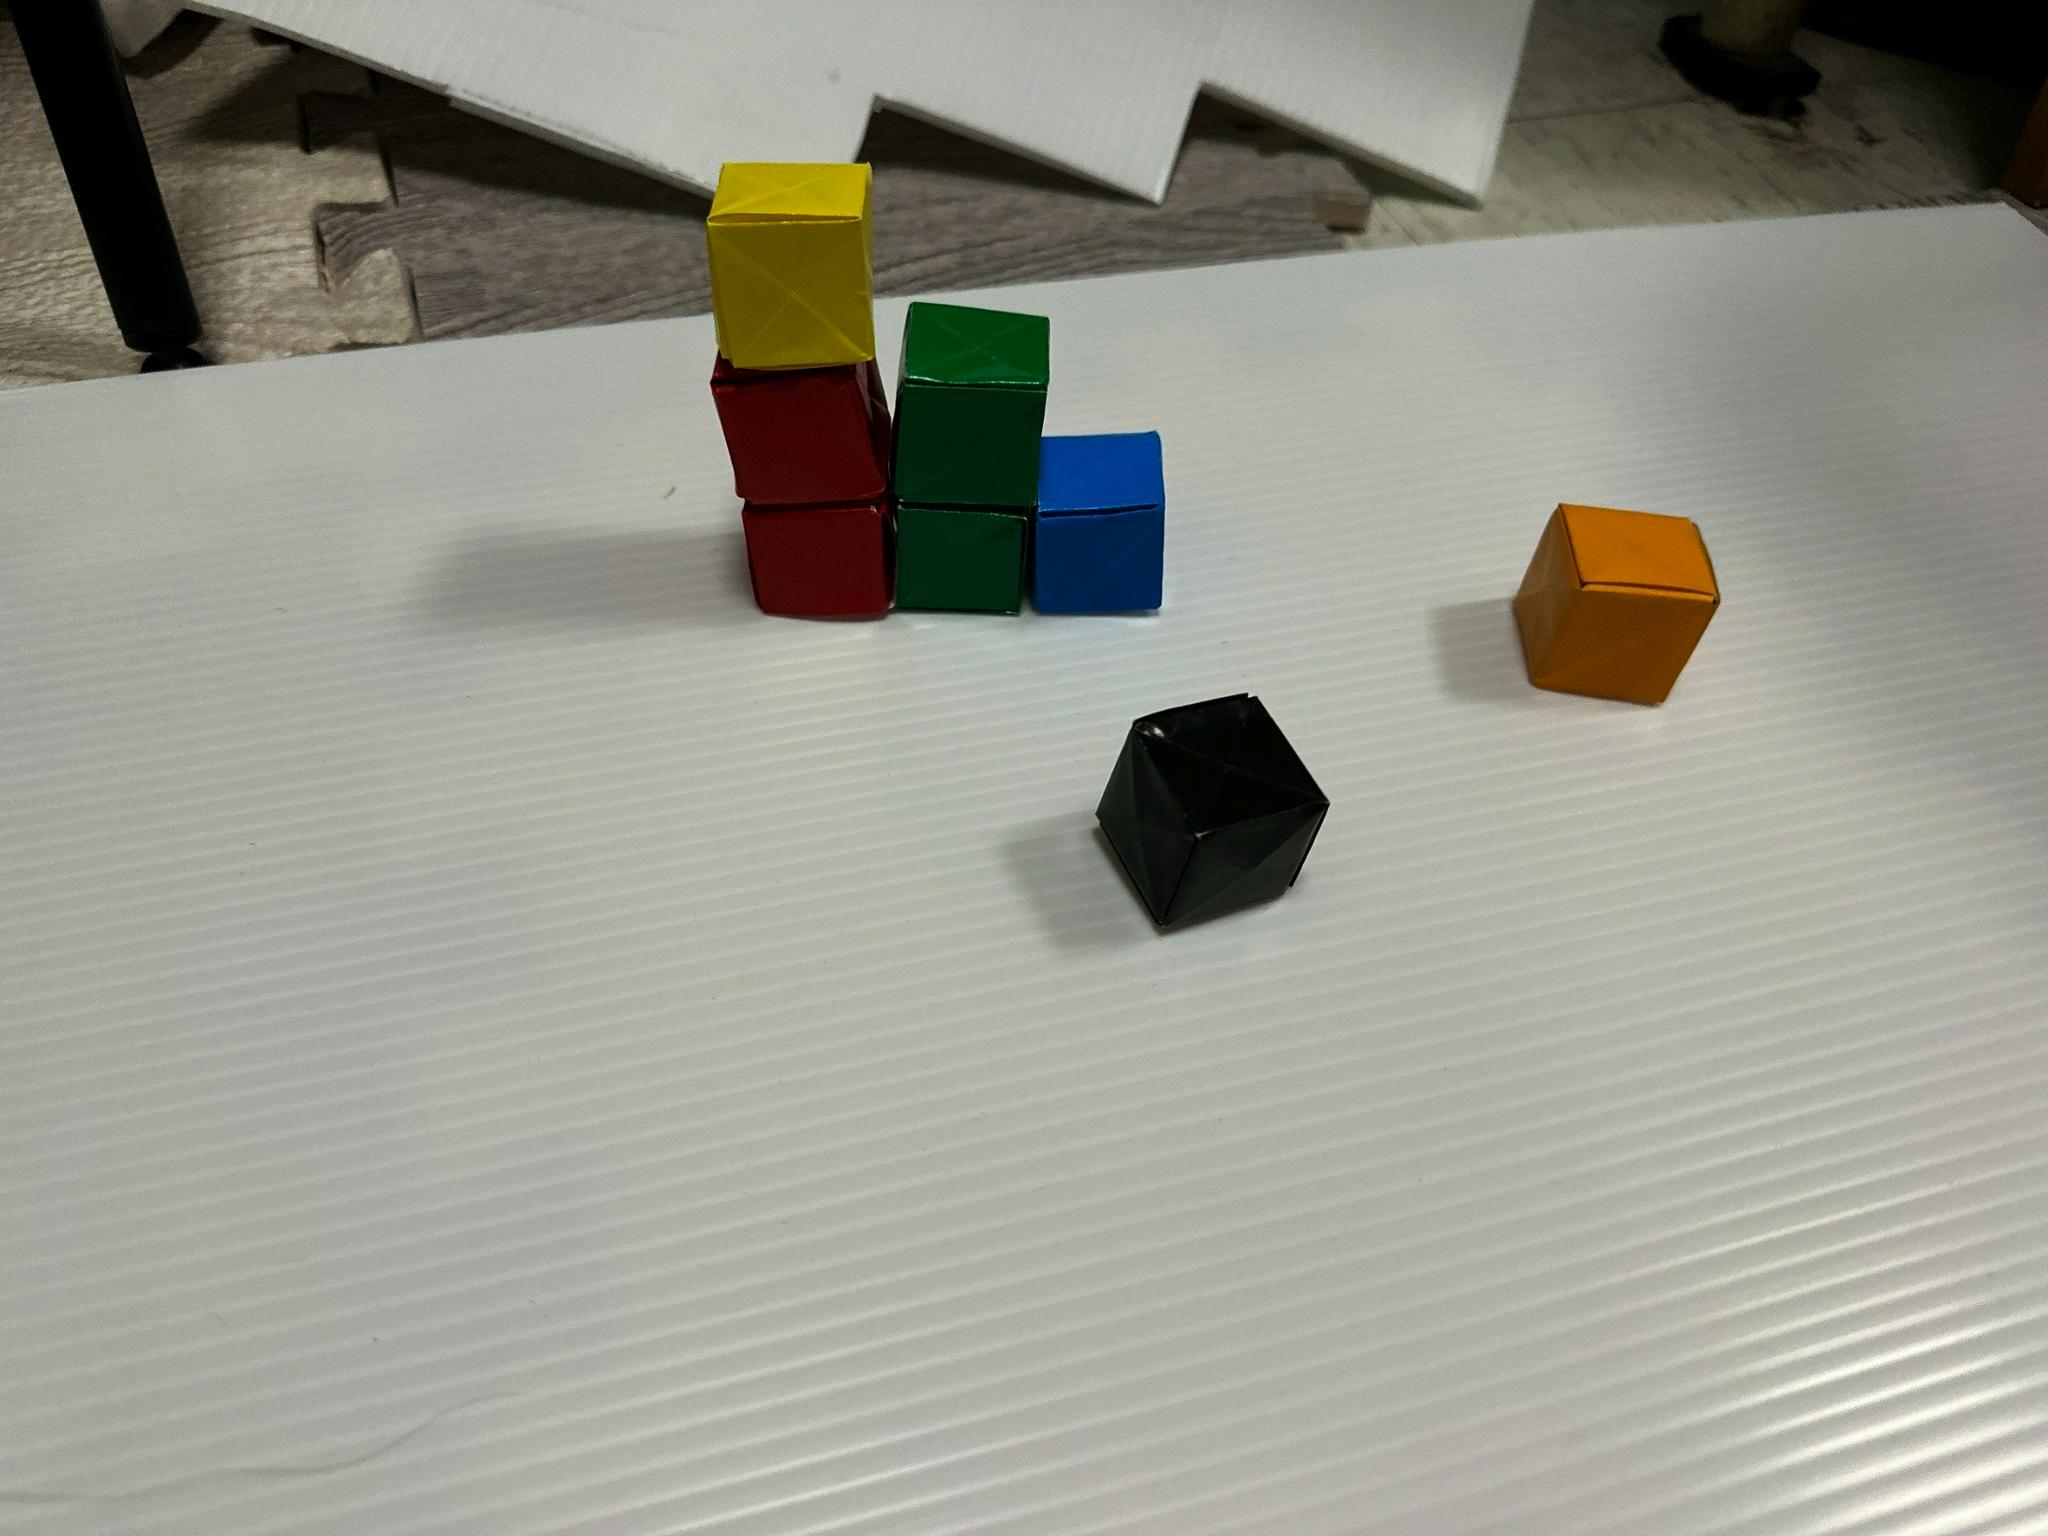base: (1097, 695, 1329, 929), (1514, 505, 1719, 705), (708, 163, 874, 369), (895, 302, 1050, 513), (713, 358, 890, 505), (1034, 432, 1166, 613), (743, 490, 892, 616), (900, 510, 1024, 613)
